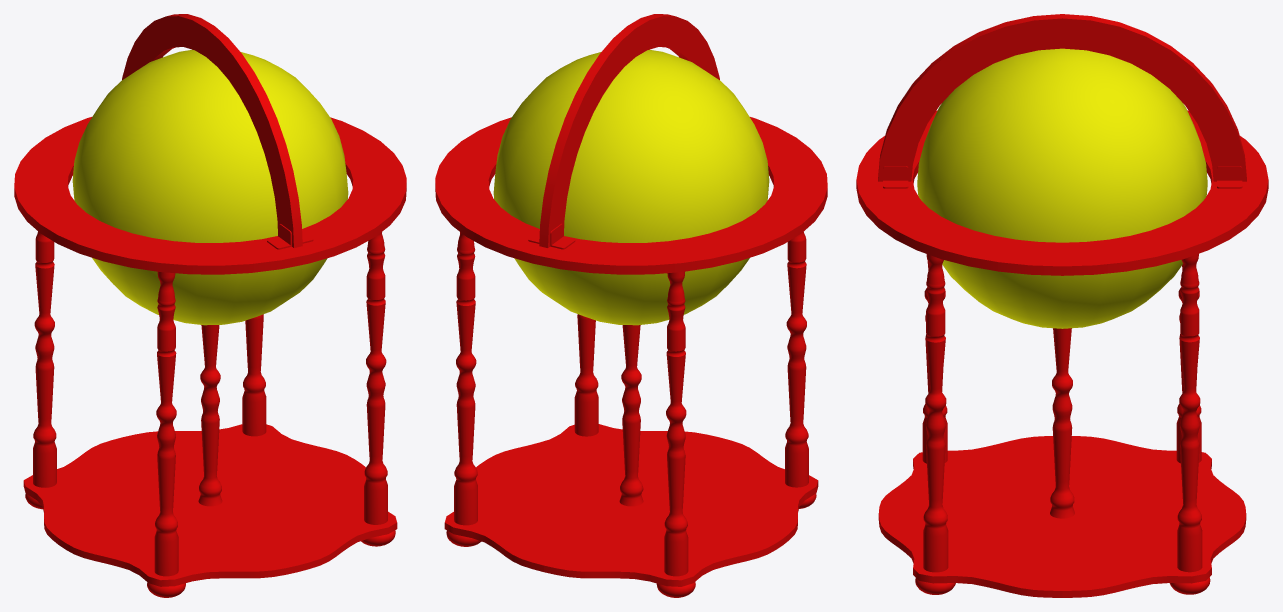
Rendered from Terrestrial_Globe.fbx.
3 renders of one model, left to right at view 1: azimuth 30°, elevation 25°; view 2: azimuth 150°, elevation 25°; view 3: azimuth 270°, elevation 25°, orthographic. The views are drawn at different scales.
Parts seen in each view (by area): view 1: Holder, Earth; view 2: Holder, Earth; view 3: Holder, Earth.
Boxes of the visible parts, bbox=[...] form: Holder: bbox=[14, 14, 406, 597]; Earth: bbox=[72, 49, 348, 325]; Holder: bbox=[435, 14, 827, 597]; Earth: bbox=[493, 49, 769, 325]; Holder: bbox=[856, 14, 1268, 597]; Earth: bbox=[917, 48, 1207, 328].
Size of the model in its own units: 0.3329 by 0.4654 by 0.3329.
